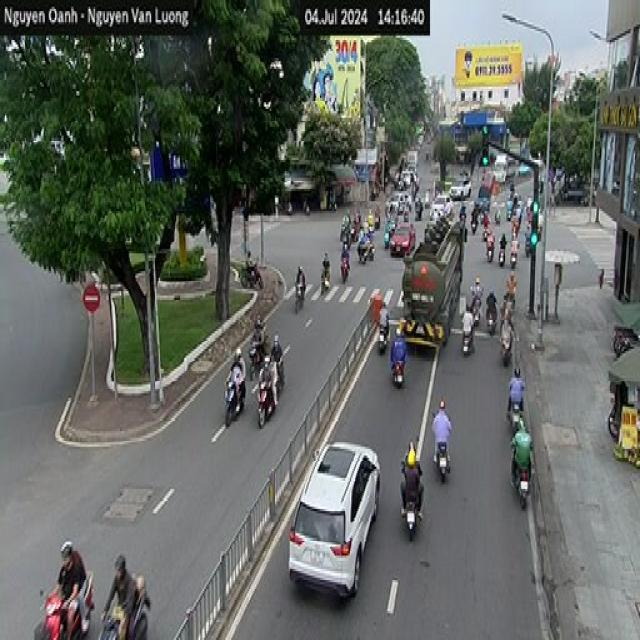Green: (480, 123, 490, 167), (531, 200, 539, 247)
